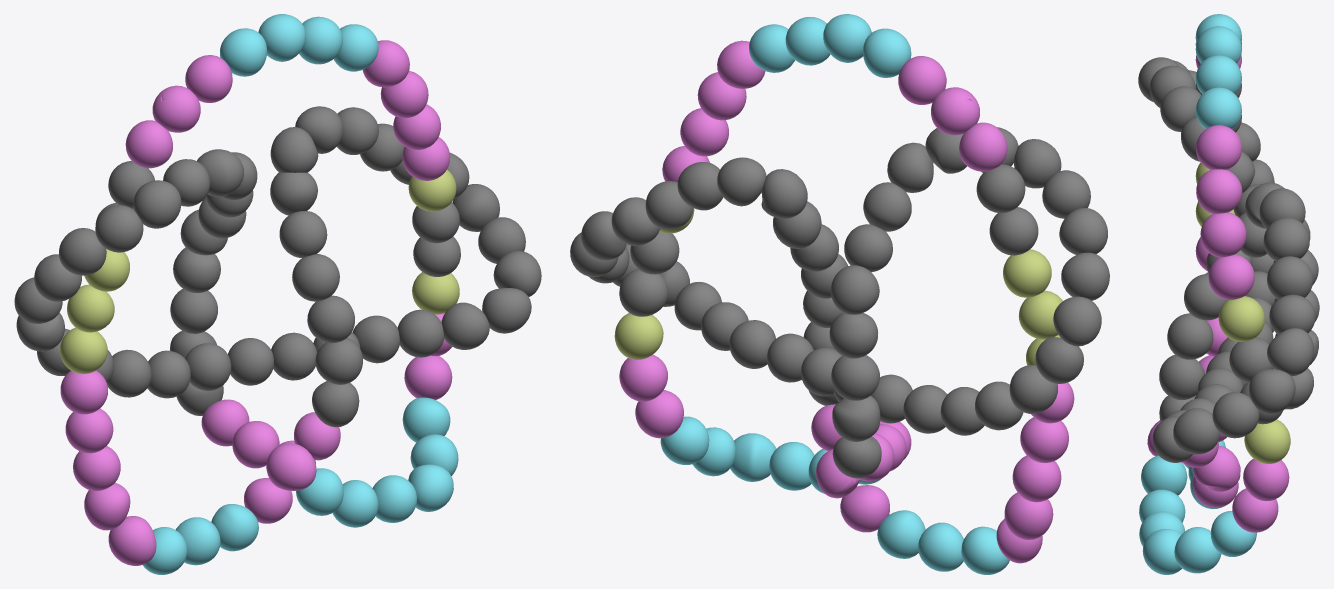
Rendered from noeud.fbx.
3 views of the same model, side by side, from view 1: azimuth 30°, elevation 25°; view 2: azimuth 150°, elevation 25°; view 3: azimuth 270°, elevation 25° (orthographic). The views are drawn at different scales.
Parts seen in each view (by area): view 1: Sphere040, Sphere073, Sphere027, Sphere026, Sphere010, Sphere083, Sphere063, Sphere084, Sphere062, Sphere011, Sphere061, Sphere082 (+66 smaller); view 2: Sphere033, Sphere023, Sphere063, Sphere002, Sphere031, Sphere001, Sphere062, Sphere061, Sphere060, Sphere064, Sphere024, Sphere066 (+61 smaller); view 3: Sphere006, Sphere007, Sphere008, Sphere055, Sphere009, Sphere056, Sphere053, Sphere054, Sphere052, Sphere082, Sphere045, Sphere003 (+44 smaller).
Part boxes in pixels (x1=…): Sphere040: x1=266, y1=443, x2=316, y2=490; Sphere073: x1=108, y1=516, x2=156, y2=565; Sphere027: x1=133, y1=180, x2=181, y2=228; Sphere026: x1=95, y1=205, x2=143, y2=252; Sphere010: x1=482, y1=288, x2=531, y2=333; Sphere083: x1=292, y1=254, x2=339, y2=301; Sphere063: x1=125, y1=120, x2=172, y2=168; Sphere084: x1=279, y1=211, x2=327, y2=257; Sphere062: x1=152, y1=85, x2=200, y2=132; Sphere011: x1=441, y1=302, x2=489, y2=349; Sphere061: x1=185, y1=55, x2=232, y2=102; Sphere082: x1=307, y1=295, x2=354, y2=343; Sphere033: x1=831, y1=265, x2=879, y2=314; Sphere023: x1=1053, y1=296, x2=1101, y2=346; Sphere063: x1=959, y1=122, x2=1007, y2=171; Sphere002: x1=717, y1=157, x2=766, y2=206; Sphere031: x1=863, y1=182, x2=911, y2=231; Sphere001: x1=761, y1=169, x2=807, y2=218; Sphere062: x1=931, y1=87, x2=979, y2=135; Sphere061: x1=898, y1=56, x2=946, y2=104; Sphere060: x1=863, y1=28, x2=911, y2=77; Sphere064: x1=976, y1=164, x2=1025, y2=213; Sphere024: x1=1061, y1=252, x2=1109, y2=300; Sphere066: x1=1003, y1=249, x2=1051, y2=297; Sphere006: x1=1267, y1=328, x2=1313, y2=376; Sphere007: x1=1249, y1=369, x2=1295, y2=414; Sphere008: x1=1212, y1=392, x2=1259, y2=438; Sphere055: x1=1196, y1=169, x2=1242, y2=213; Sphere009: x1=1173, y1=408, x2=1220, y2=454; Sphere056: x1=1195, y1=125, x2=1241, y2=169; Sphere053: x1=1208, y1=254, x2=1254, y2=299; Sphere054: x1=1200, y1=212, x2=1246, y2=257; Sphere052: x1=1218, y1=296, x2=1264, y2=341; Sphere082: x1=1167, y1=313, x2=1213, y2=359; Sphere045: x1=1174, y1=527, x2=1221, y2=573; Sphere003: x1=1263, y1=217, x2=1309, y2=260.
Bounding box in the file's own units: 51.25 × 50.75 × 16.49.
